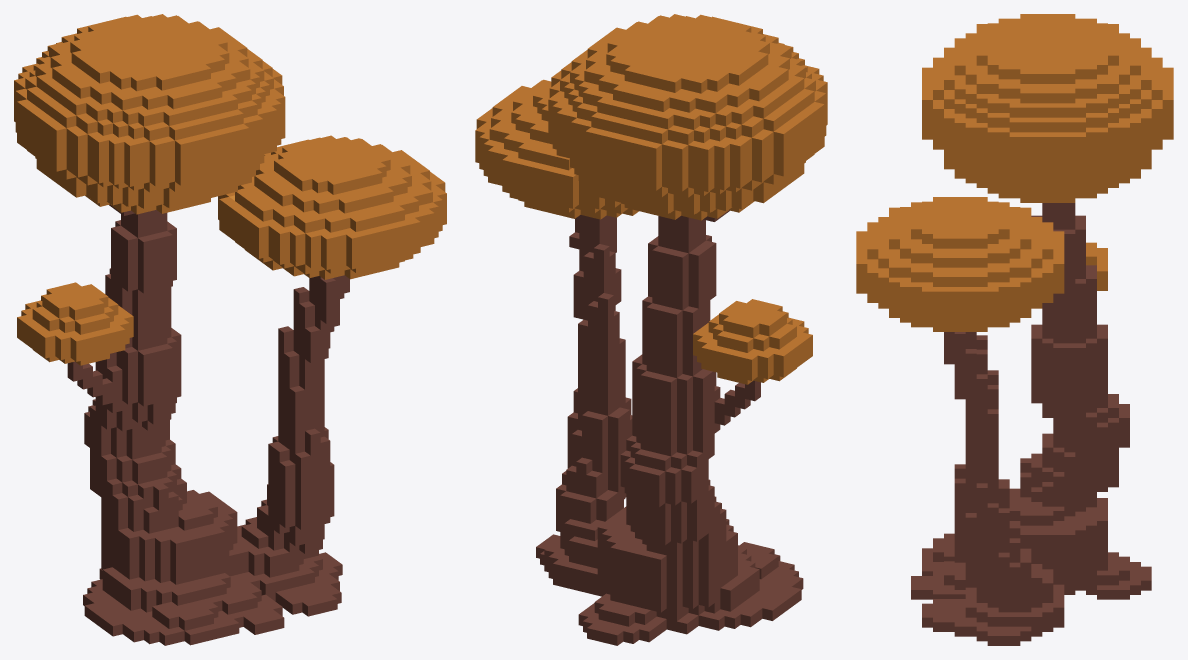
The model's file is Prehistoric tree_yellow.obj.
The picture shows the model from 3 angles, left to right: view 1: azimuth 30°, elevation 25°; view 2: azimuth 150°, elevation 25°; view 3: azimuth 270°, elevation 25°; orthographic projection. The views are drawn at different scales.
Visible parts, largest first — view 1: Prehistoric tree_yellow; view 2: Prehistoric tree_yellow; view 3: Prehistoric tree_yellow.
Boxes of the visible parts, x1,y1,x2,y2 form: Prehistoric tree_yellow: [14, 14, 446, 645]; Prehistoric tree_yellow: [475, 14, 827, 645]; Prehistoric tree_yellow: [856, 14, 1173, 645].
Size of the model in its own units: 35 by 53 by 29.
Materials: 1 (1 with a texture image).
